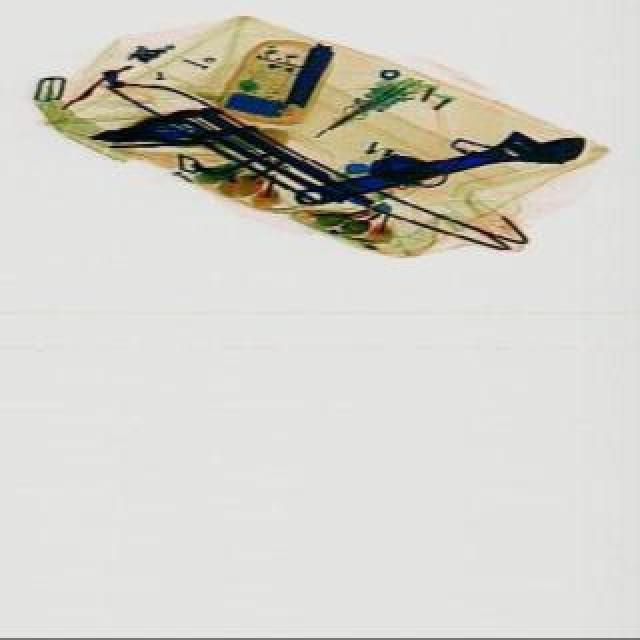scissors: (294, 118, 592, 214)
wrench: (96, 104, 234, 154)
